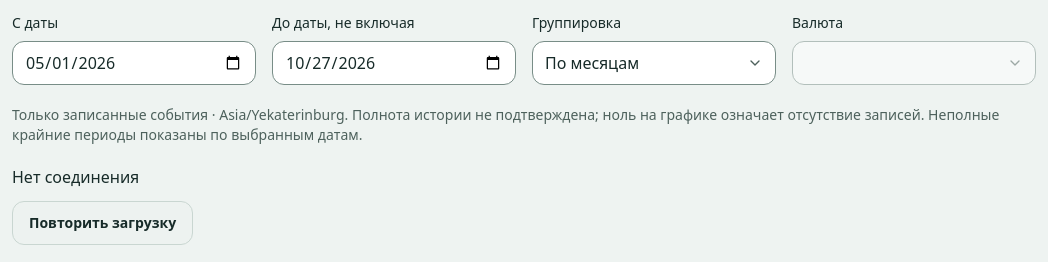
SPEC-0030 charts › handles failure and empty data without inventing a chart
The width and height of the screenshot is (1048, 262).
Expected: the message shows "Нет соединения", [12,166,139,188]
Click the button "Повторить загрузку".
click(103, 223)  # box [12,201,193,245]
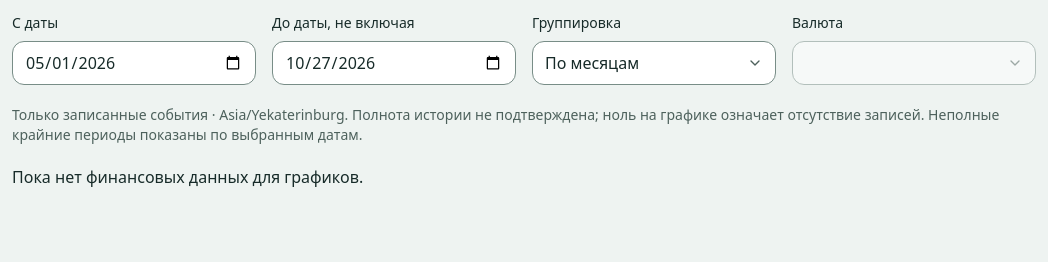
Expected: the text "Пока нет финансовых данных для графиков." is shown, [12,166,363,188]
